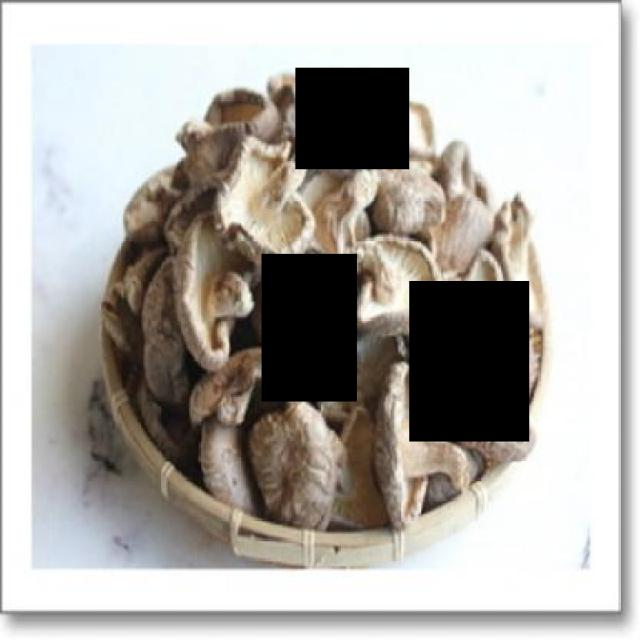Mushroom: (409, 280, 529, 442), (261, 255, 357, 402), (295, 68, 410, 169)
